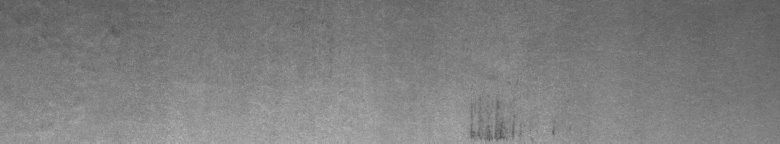ka: (468, 102, 555, 136)
